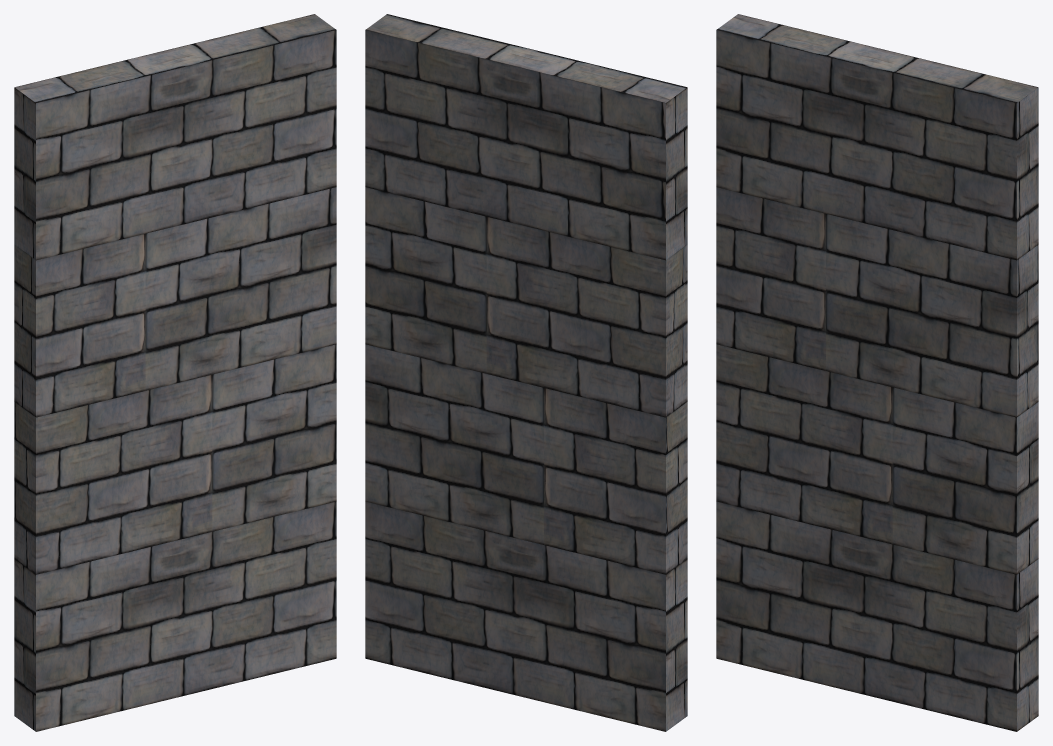
Rendered from wall_01.fbx.
The picture shows the model from 3 angles, left to right: view 1: azimuth 30°, elevation 25°; view 2: azimuth 150°, elevation 25°; view 3: azimuth 330°, elevation 25°; orthographic projection.
Parts seen in each view (by area): view 1: wall_01; view 2: wall_01; view 3: wall_01.
Part boxes in pixels (bbox=[...]): wall_01: bbox=[14, 14, 336, 731]; wall_01: bbox=[365, 14, 687, 731]; wall_01: bbox=[716, 14, 1038, 731].
Size of the model in its own units: 800 by 1600 by 100.
